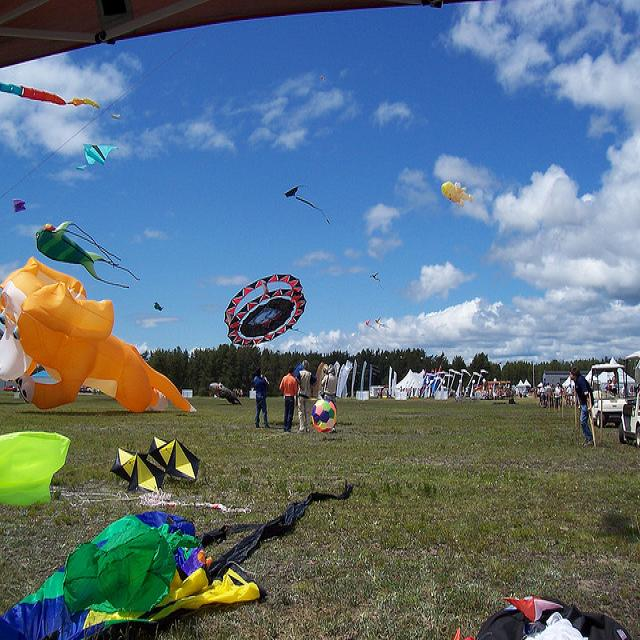Vehicle: (617, 392, 640, 452), (592, 395, 628, 429)
